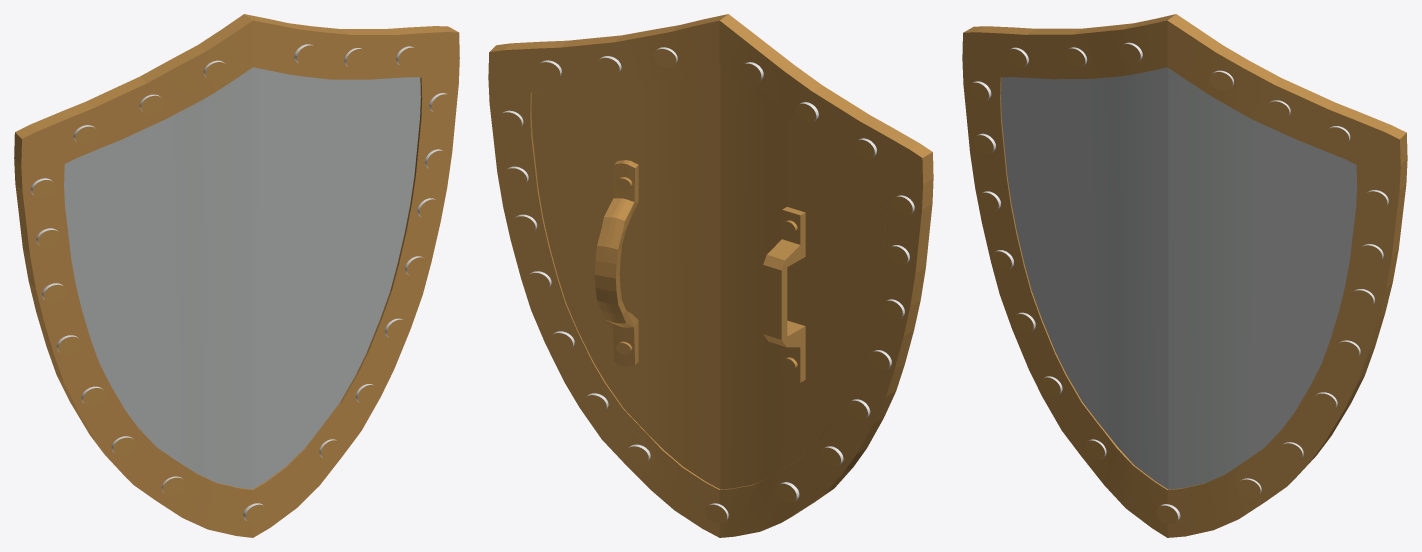
File: shield.fbx
The picture shows the model from 3 angles, left to right: view 1: azimuth 30°, elevation 25°; view 2: azimuth 150°, elevation 25°; view 3: azimuth 330°, elevation 25°; orthographic projection.
Parts seen in each view (by area): view 1: Shieldnside; view 2: Shieldnside; view 3: Shieldnside.
Boxes of the visible parts, left/top/right/bottom form: Shieldnside: left=14, top=14, right=459, bottom=537; Shieldnside: left=488, top=14, right=933, bottom=537; Shieldnside: left=962, top=14, right=1407, bottom=537.
Bounding box in the file's own units: 124 × 140 × 20.56.
